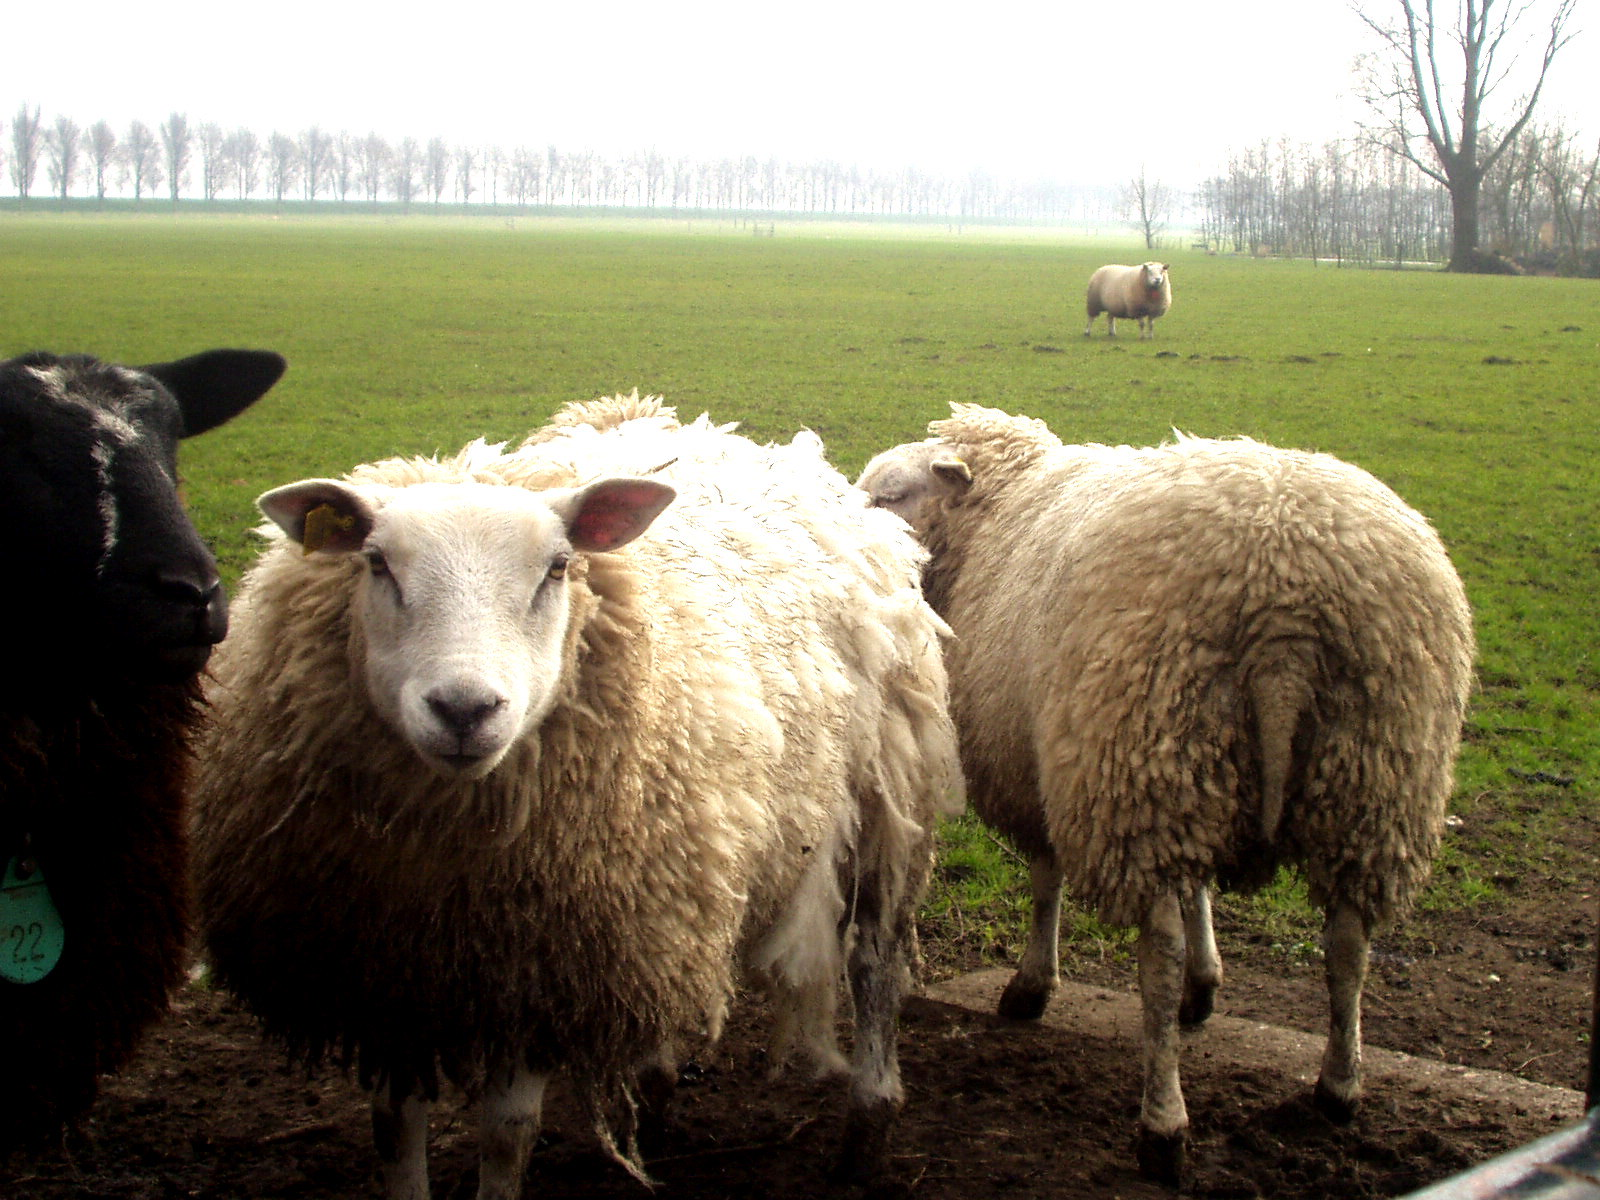sheep: (237, 401, 934, 1200)
